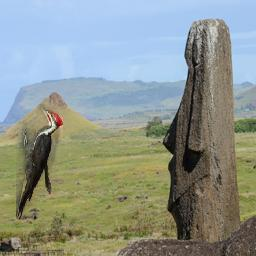Woodpecker: (17, 105, 64, 220)
